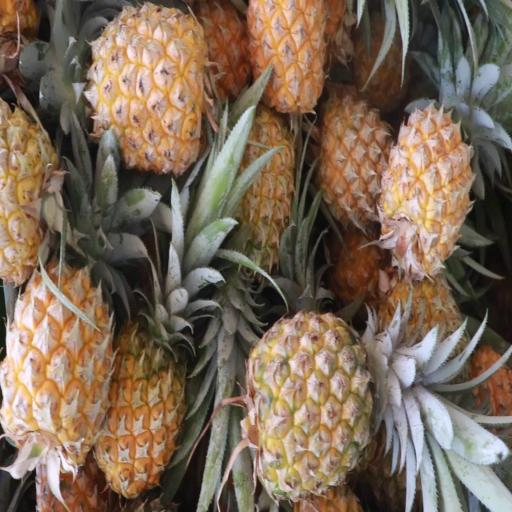------------------------------: (241, 307, 440, 497)
Pineapple - v8 v1: (96, 230, 194, 496), (2, 257, 106, 493), (60, 10, 204, 172), (202, 96, 298, 315), (374, 94, 480, 290), (316, 84, 391, 226)
